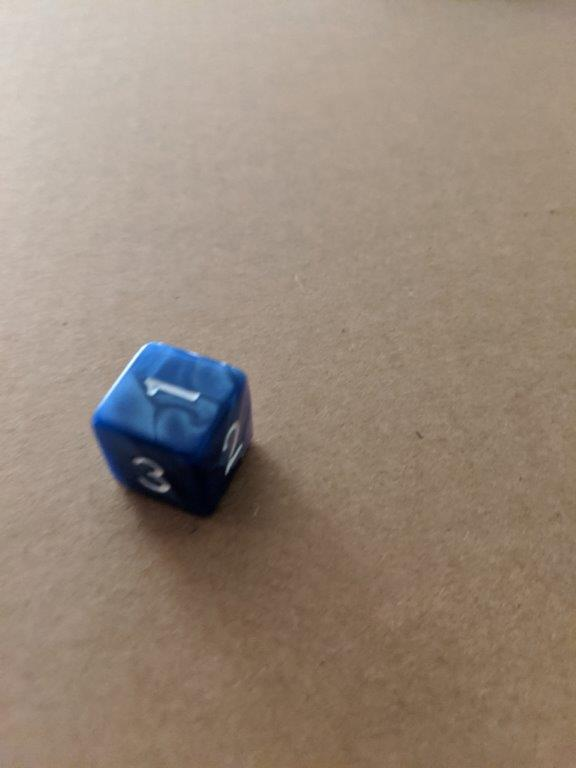d6-1: (88, 339, 257, 522)
